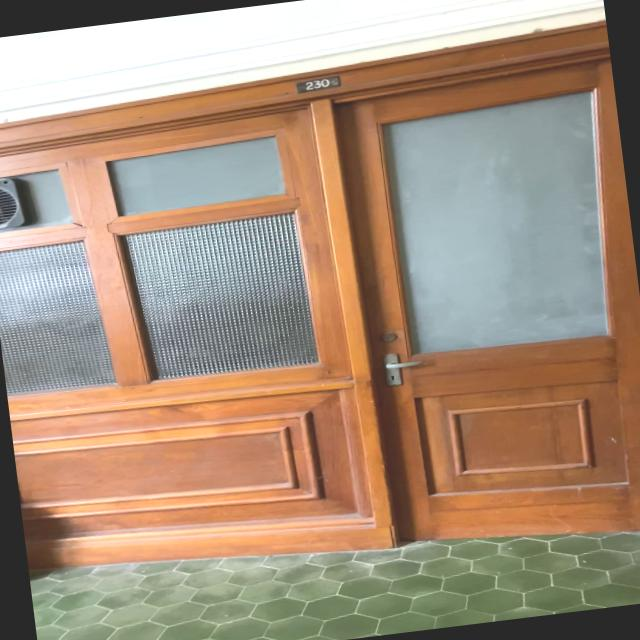room230: (294, 74, 342, 95)
